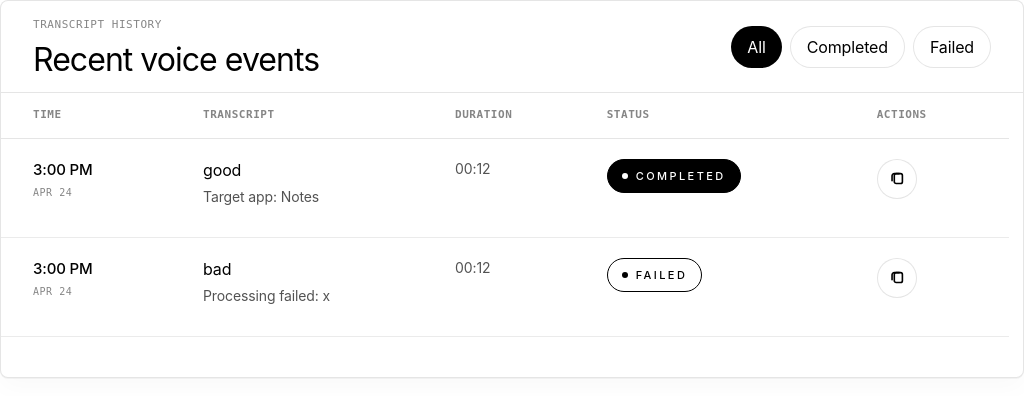
Test: TranscriptHistory › filters to completed rows when Completed pill is active
This screenshot has width=1024, height=396.
Click the button "Completed". click: click(847, 47)
box: [790,26,905,68]
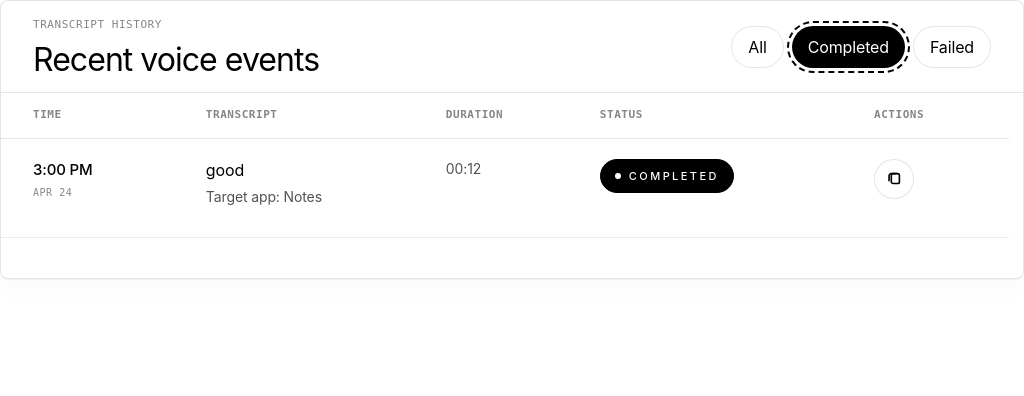
Check: the text "good" is shown, box [206,160,244,180]
Check: the text "bad" is gone
